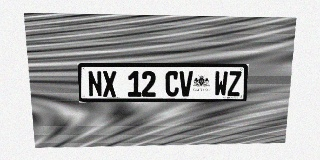1: (127, 71, 141, 97)
2: (142, 71, 155, 97)
C: (165, 71, 179, 97)
N: (87, 71, 103, 97)
V: (179, 71, 193, 96)
W: (214, 71, 228, 96)
X: (102, 71, 117, 97)
Z: (227, 71, 242, 96)
